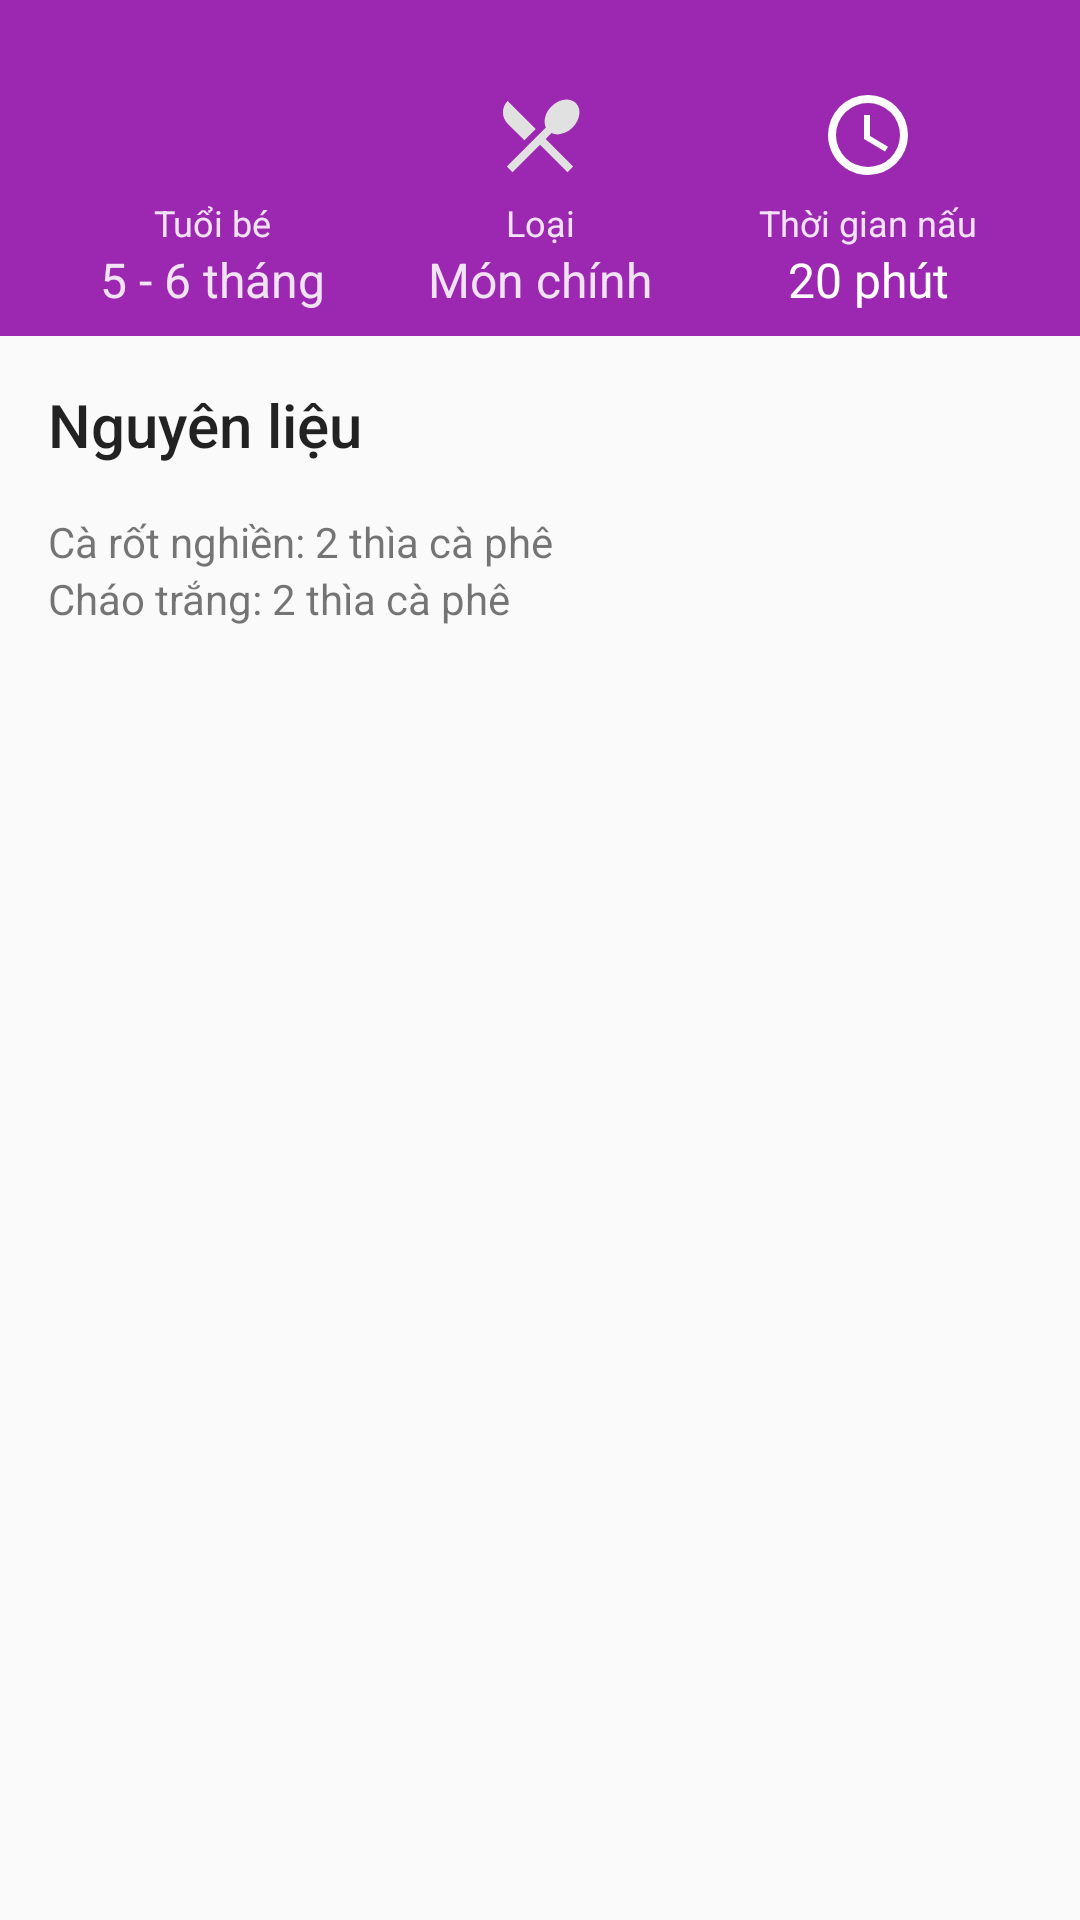

Where to tap for icons on this 1080 × 1920 app screen, as [x,y]:
clock: [868,135]
recipe: [541,135]
